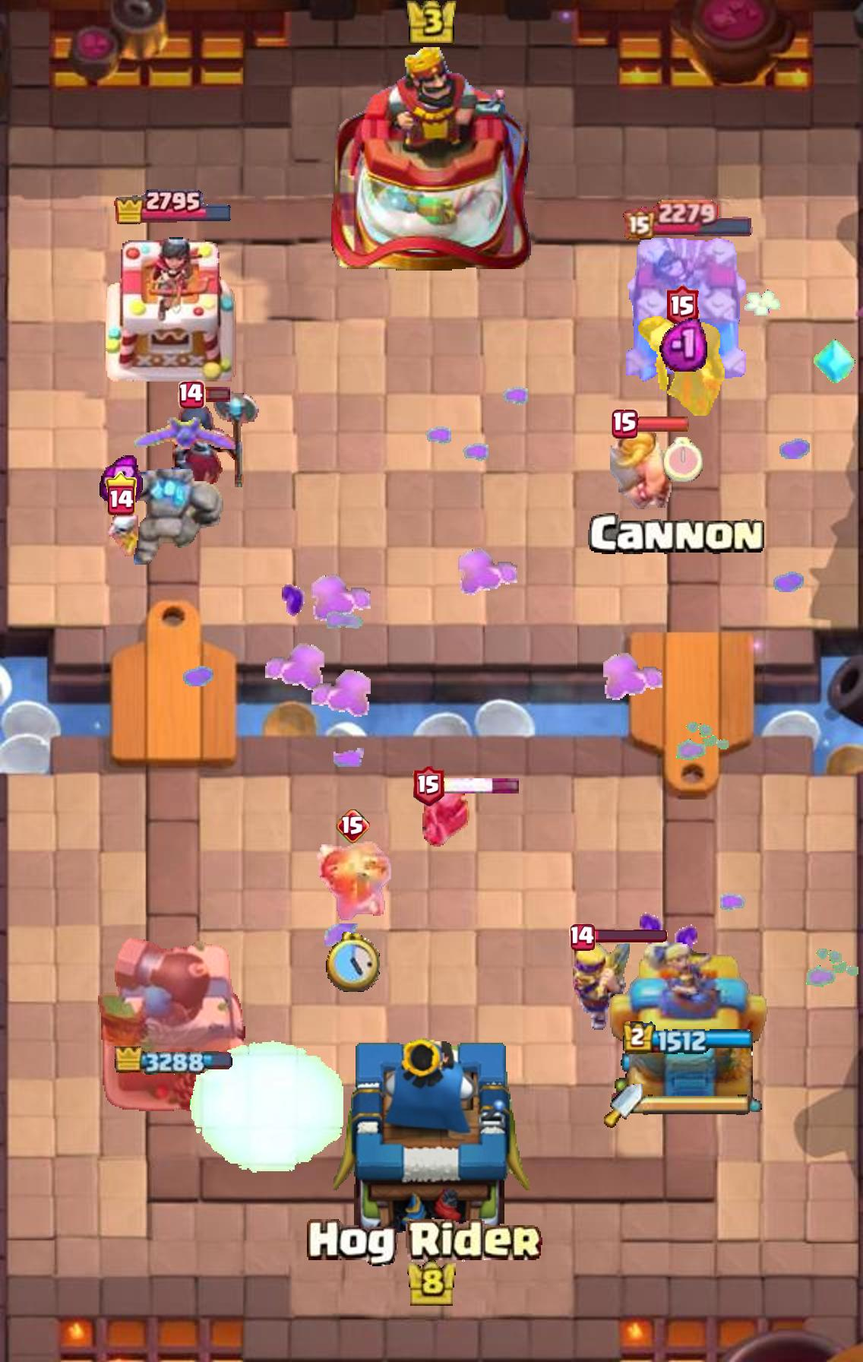elixir: (660, 315, 708, 372), (100, 454, 143, 505)
